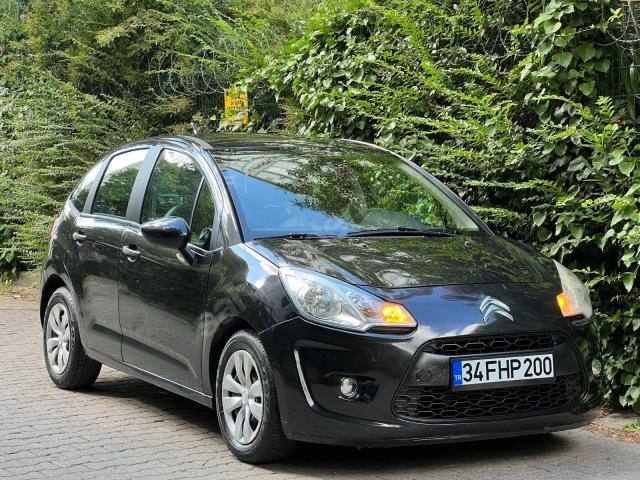plaka: (453, 354, 555, 386)
